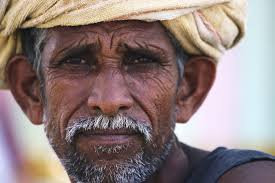noMask: (8, 28, 221, 181)
